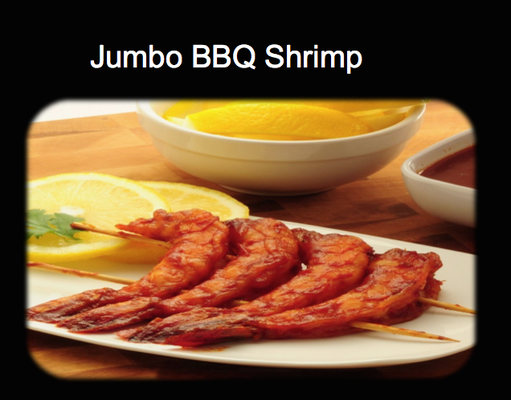sushi: (134, 97, 428, 197), (400, 130, 477, 229)
